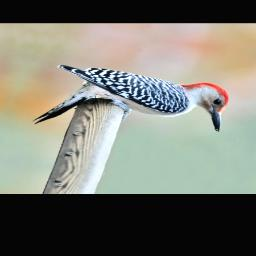Woodpecker: (17, 53, 247, 156)
